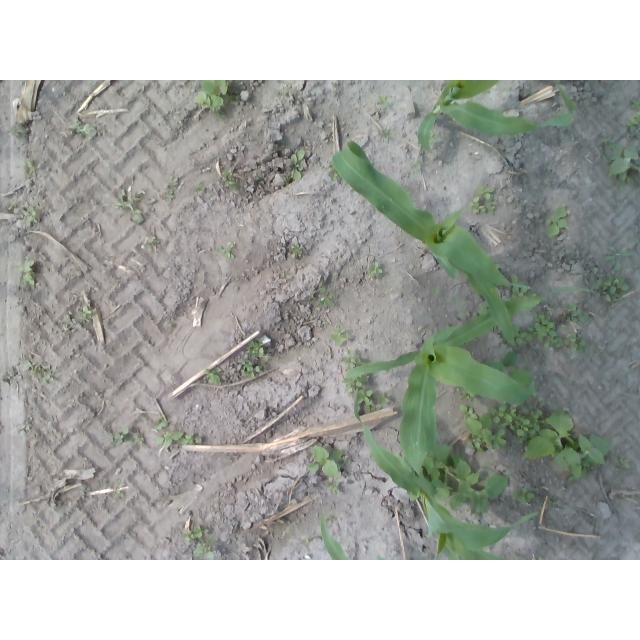Maize: (345, 288, 596, 480), (331, 138, 522, 346), (354, 392, 538, 561), (412, 81, 576, 156), (318, 509, 433, 560)
Weeds: (504, 400, 612, 485), (423, 442, 510, 516), (341, 348, 390, 416), (460, 404, 509, 453), (502, 312, 563, 351), (599, 137, 640, 195), (483, 350, 533, 388), (193, 81, 236, 120), (307, 445, 348, 479), (115, 188, 146, 224), (591, 277, 629, 304), (22, 358, 54, 386), (155, 431, 202, 450), (603, 245, 634, 272), (511, 487, 553, 506), (283, 150, 306, 184), (546, 204, 569, 238), (469, 185, 495, 215), (59, 306, 93, 326), (565, 300, 592, 324), (510, 274, 536, 298), (309, 284, 333, 308), (625, 99, 640, 137), (16, 261, 37, 288), (563, 334, 587, 355), (193, 537, 215, 559), (163, 174, 180, 202), (180, 525, 208, 542), (329, 327, 352, 347), (112, 427, 135, 446), (240, 358, 261, 378), (68, 120, 95, 135), (613, 455, 636, 472), (245, 339, 265, 358), (21, 206, 39, 227), (222, 169, 239, 190), (216, 243, 234, 261), (458, 387, 479, 402), (24, 158, 37, 179), (324, 164, 341, 180), (204, 367, 220, 384), (366, 261, 383, 276), (324, 481, 341, 496), (379, 127, 393, 143), (6, 124, 23, 136), (376, 94, 392, 106), (290, 243, 302, 258), (478, 301, 490, 315), (153, 418, 167, 430), (144, 236, 157, 248), (411, 160, 422, 171), (427, 132, 438, 143), (431, 285, 442, 295), (277, 91, 287, 101), (194, 183, 206, 191), (20, 424, 29, 434), (628, 493, 636, 501), (326, 516, 335, 523), (495, 262, 502, 270), (301, 537, 309, 543), (117, 492, 124, 497), (283, 274, 289, 279)
